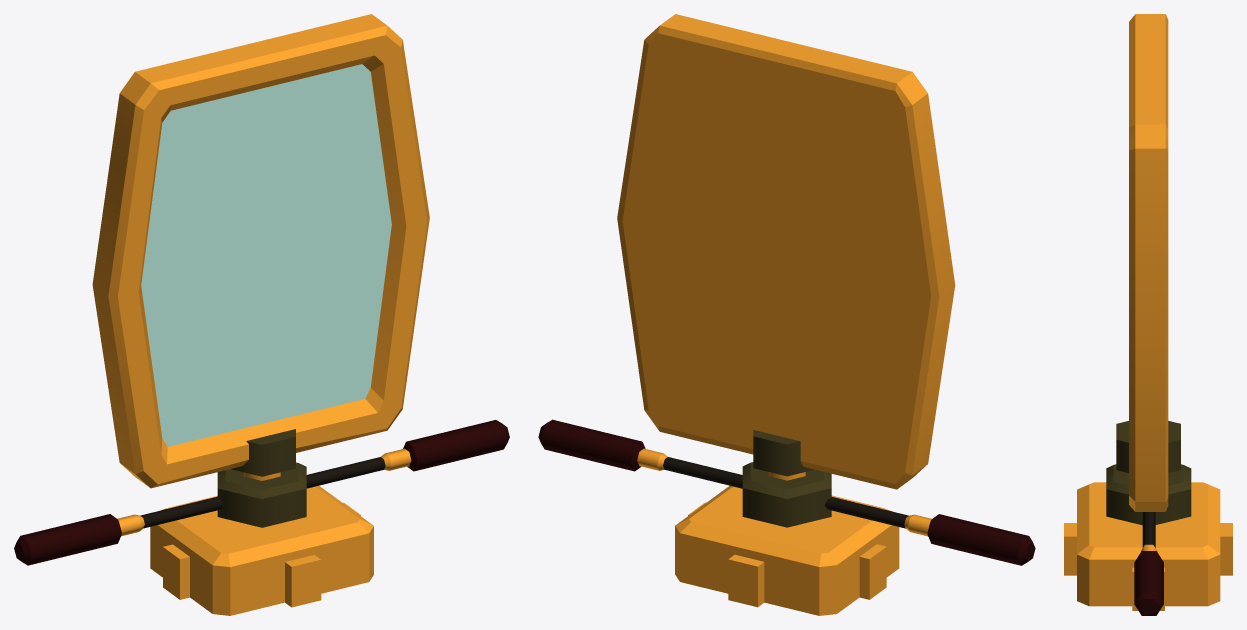
Rendered from mirror.FBX.
3 views of the same model, side by side, from view 1: azimuth 30°, elevation 25°; view 2: azimuth 150°, elevation 25°; view 3: azimuth 270°, elevation 25° (orthographic). The views are drawn at different scales.
Parts seen in each view (by area): view 1: MIRROR_ROTATING; view 2: MIRROR_ROTATING; view 3: MIRROR_ROTATING.
Boxes of the visible parts, bbox=[...] form: MIRROR_ROTATING: bbox=[14, 14, 509, 615]; MIRROR_ROTATING: bbox=[538, 14, 1035, 615]; MIRROR_ROTATING: bbox=[1064, 14, 1232, 615].
Size of the model in its own units: 640 by 658 by 201.
